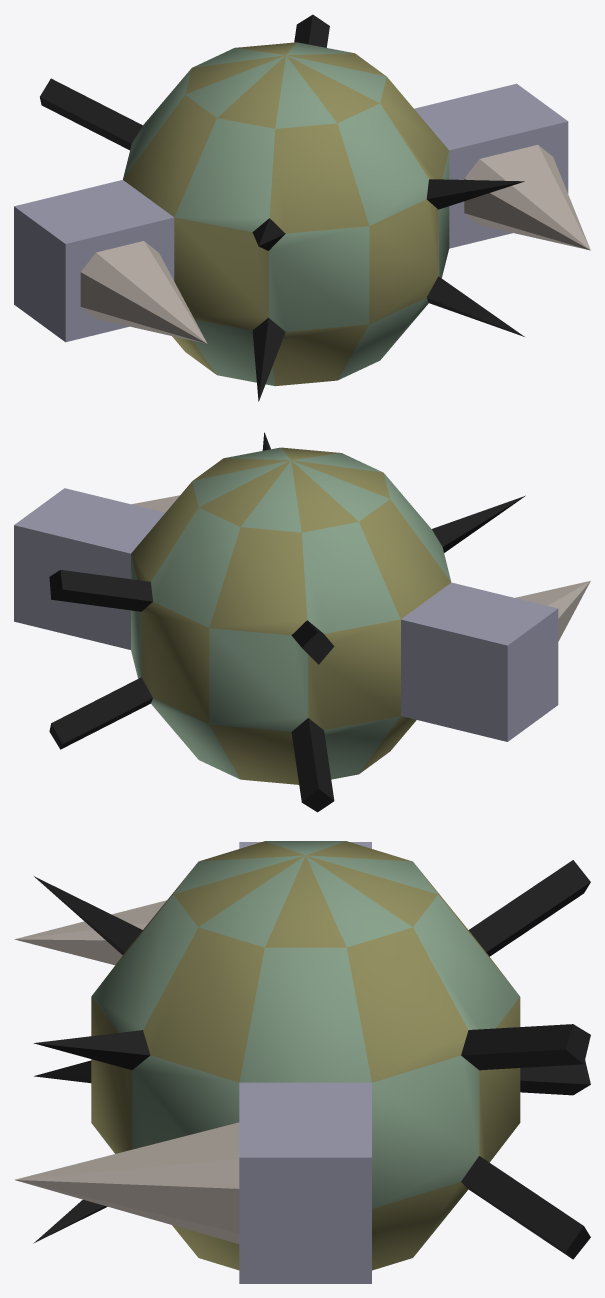
File: Xphere_002.FBX
The picture shows the model from 3 angles, top to bottom: view 1: azimuth 30°, elevation 25°; view 2: azimuth 150°, elevation 25°; view 3: azimuth 270°, elevation 25°; orthographic projection. The views are drawn at different scales.
Visible parts, largest first — view 1: Sphere001; view 2: Sphere001; view 3: Sphere001.
Boxes of the visible parts, <box> form: Sphere001: <box>14,14,590,401</box>; Sphere001: <box>14,432,590,812</box>; Sphere001: <box>14,841,590,1283</box>.
Size of the model in its own units: 13.03 by 7.87 by 10.07.
